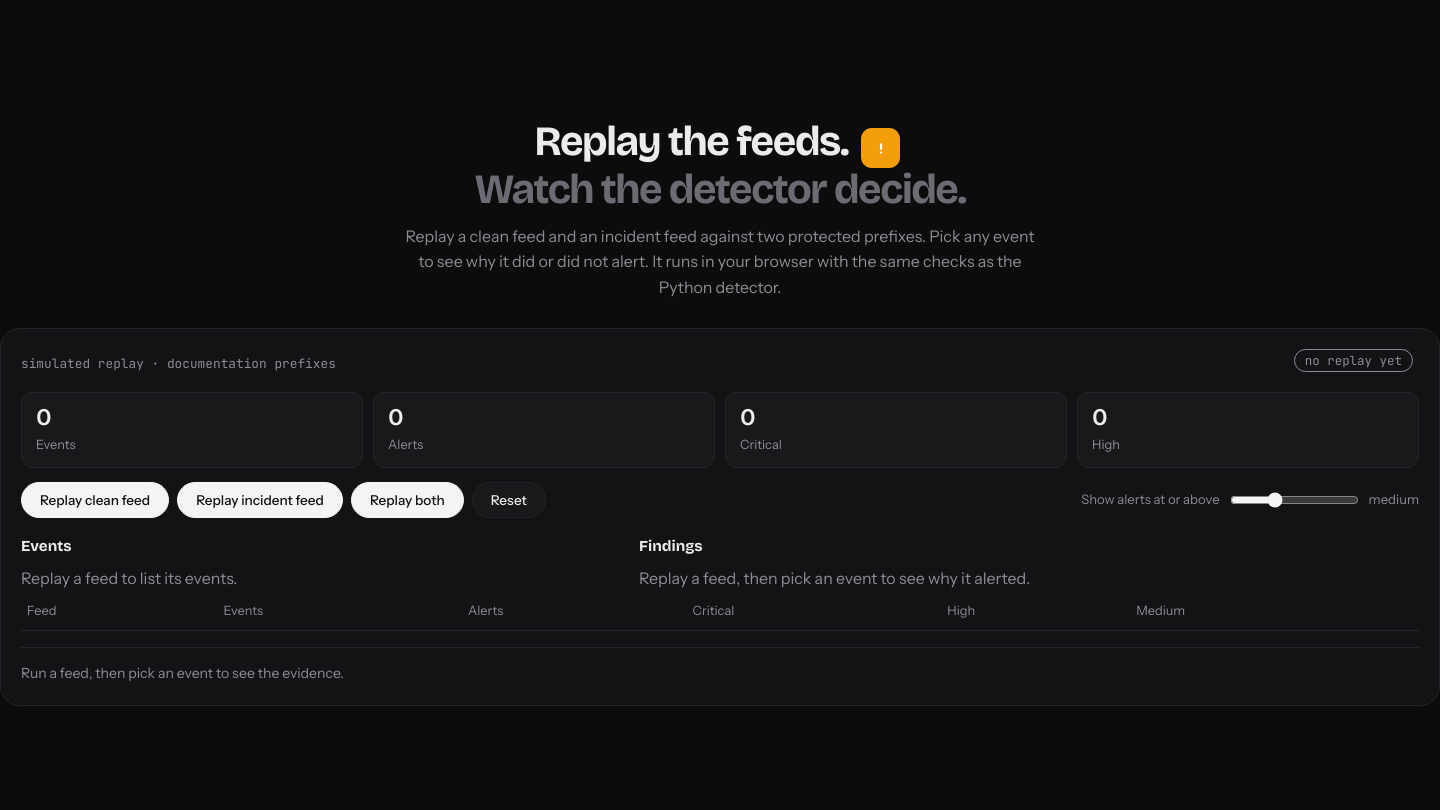
it: simulator › reports when an event has no findings at the chosen threshold
Click the button "Replay incident feed". click: point(260, 500)
box: [177,482,343,518]
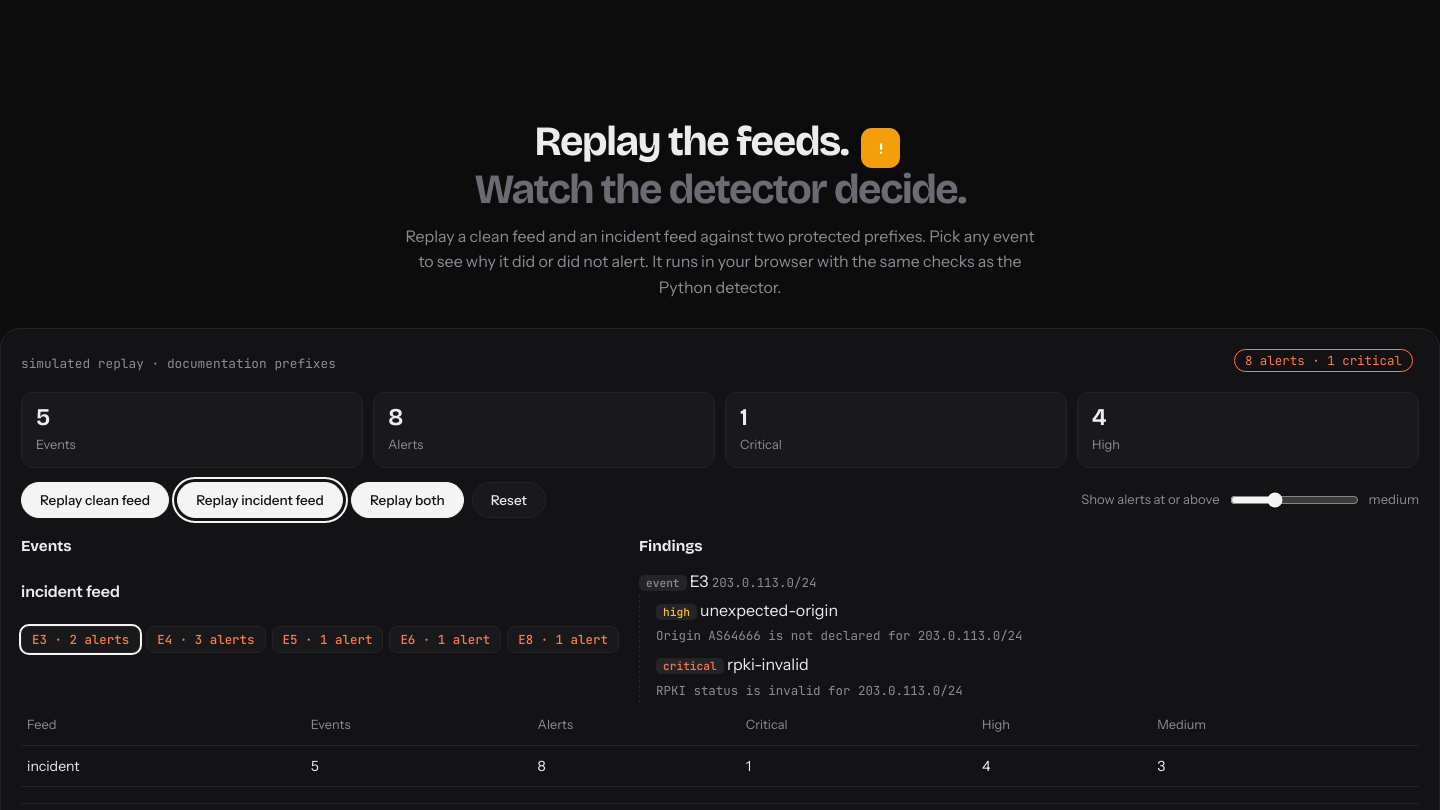
Click the button "E4 · 3 alerts". click: point(206, 640)
box: [146,626,266,653]
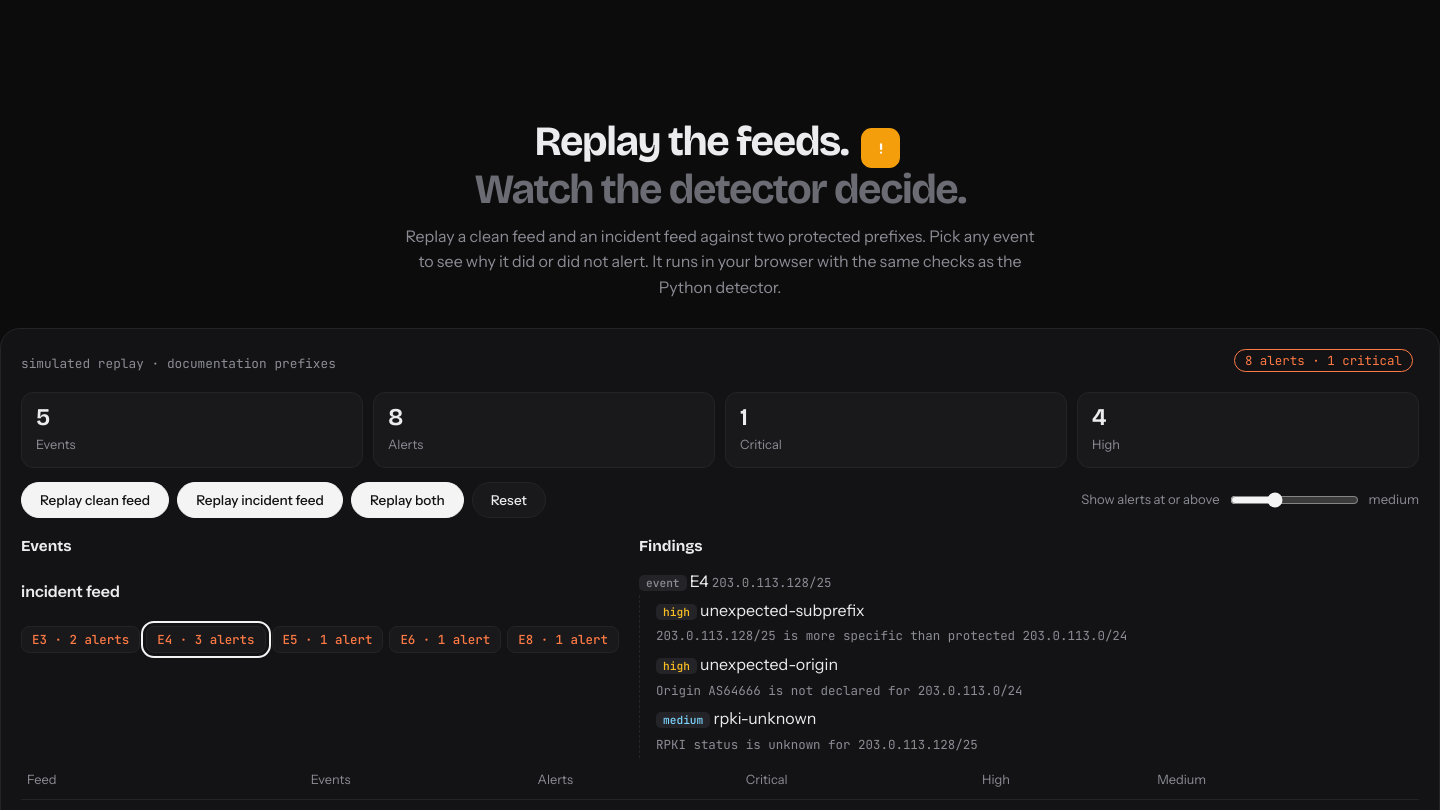
Set the slider labelled "Show alerts at or above" to "3". click: point(1351, 500)
box: [1230,492,1359,508]
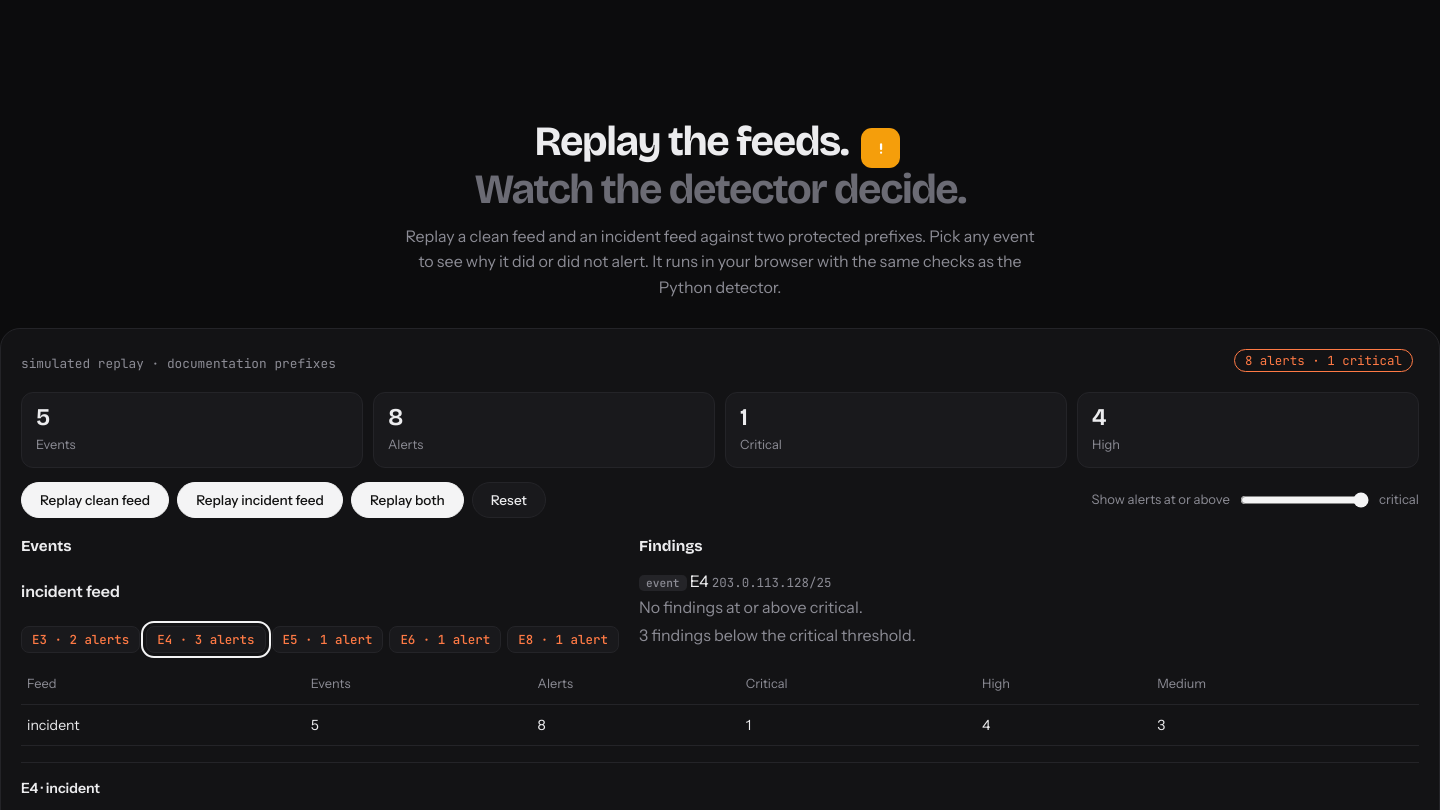
Expected: the text "No findings at or above critical." is shown, [639,597,863,617]
Expected: the text "3 findings below the critical threshold." is shown, [639,625,916,645]
